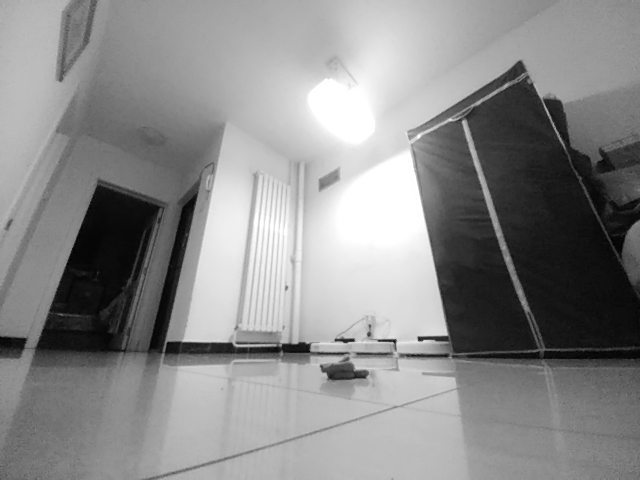pet feces: (320, 354, 371, 381)
